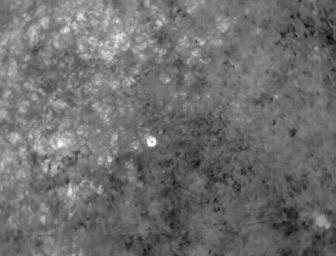landmine: (146, 136, 157, 147)
